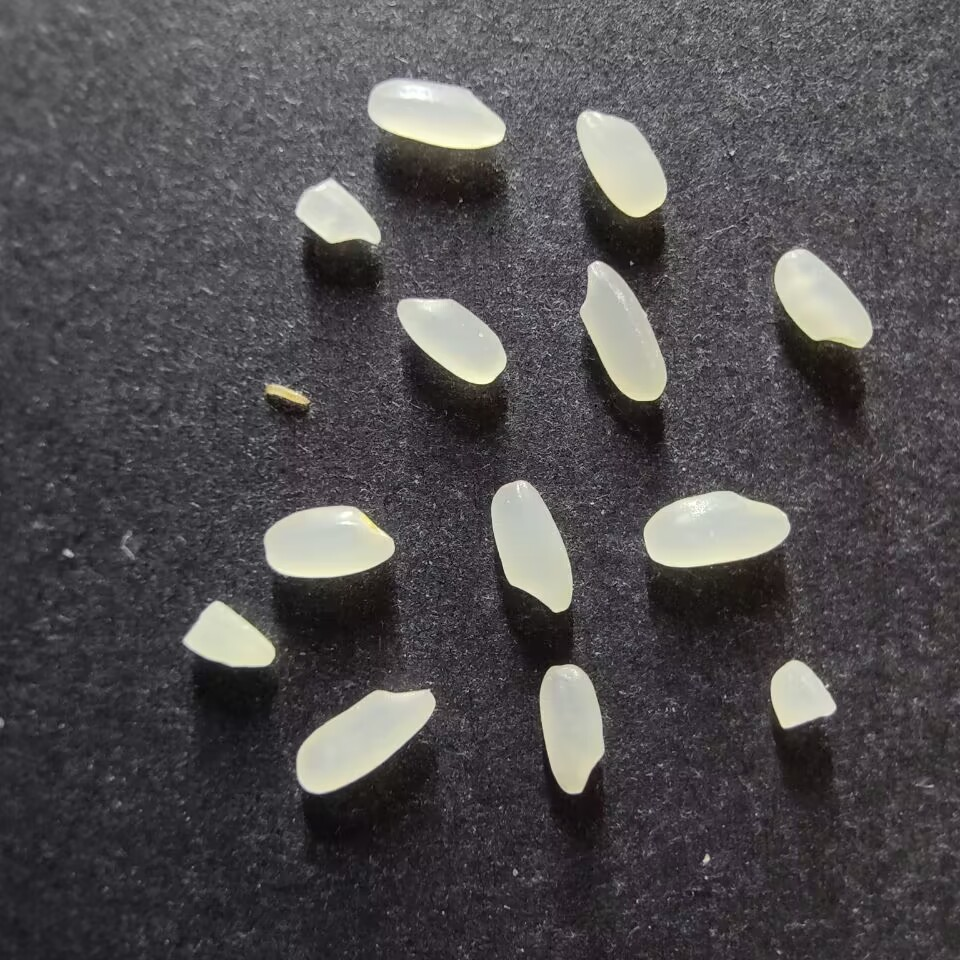broken: (180, 600, 275, 668), (294, 177, 384, 247), (769, 658, 837, 730)
others: (261, 380, 309, 407)
rice: (295, 686, 436, 795), (578, 259, 665, 402), (642, 491, 789, 568), (489, 479, 573, 613), (576, 108, 669, 218), (366, 78, 506, 150), (773, 248, 873, 348), (396, 296, 507, 385), (262, 504, 395, 578), (538, 663, 606, 795)
